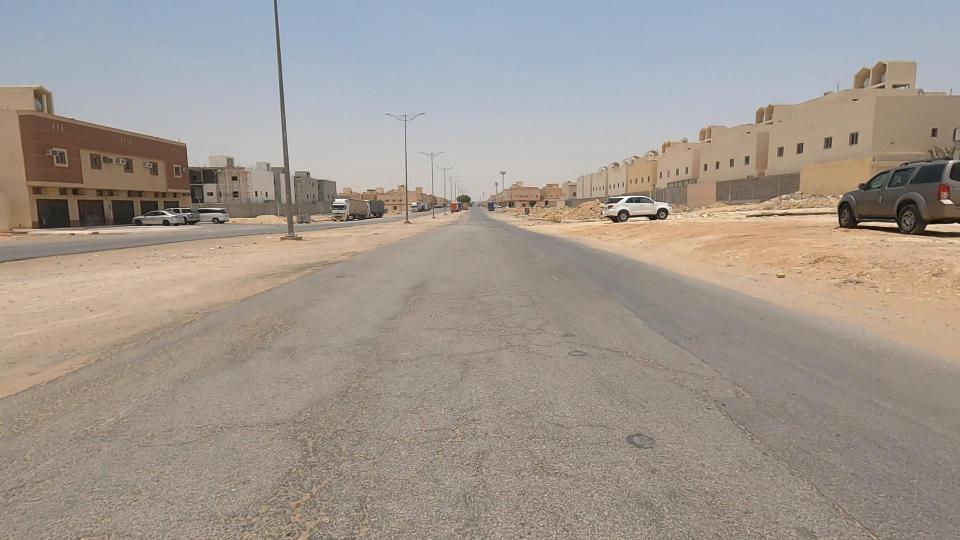CLUTTER_SIDEWALK: (29, 212, 308, 354), (182, 205, 343, 287)
